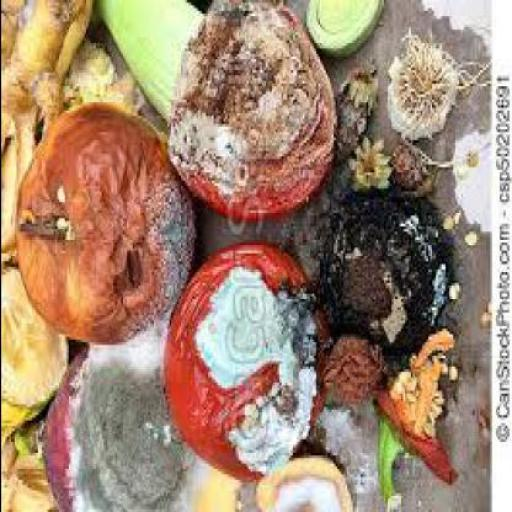biodegradable: (14, 105, 190, 348), (160, 242, 320, 488), (162, 2, 332, 226), (34, 344, 200, 510), (310, 200, 448, 370), (0, 2, 86, 270), (90, 3, 202, 126), (2, 266, 66, 447), (382, 38, 483, 144), (56, 40, 137, 126), (246, 455, 352, 511), (1, 417, 53, 511), (302, 3, 380, 62), (379, 138, 446, 199), (320, 336, 378, 406), (330, 73, 372, 161), (338, 145, 388, 197), (0, 3, 20, 70), (460, 229, 475, 256), (444, 282, 458, 304), (473, 312, 486, 334), (436, 218, 449, 237), (462, 151, 475, 170), (449, 216, 456, 226)
